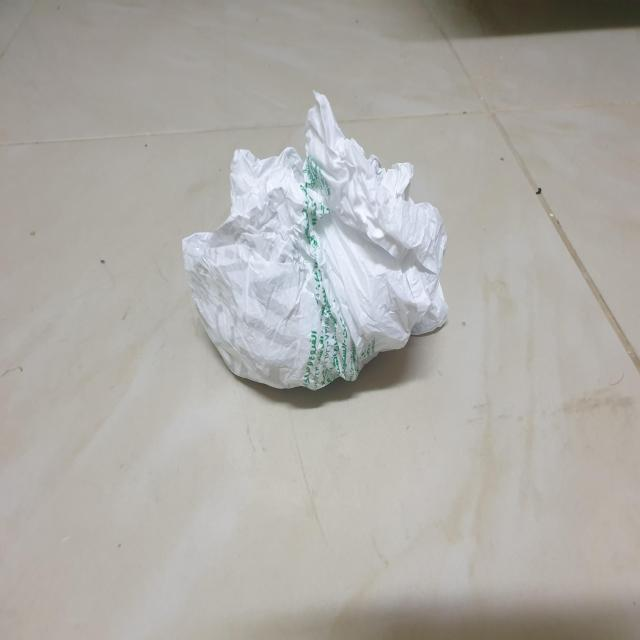plastic bag: (172, 78, 456, 406)
